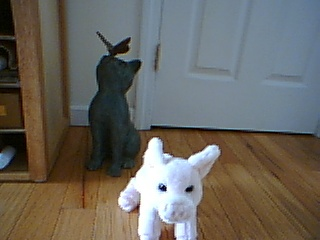piggy: (115, 135, 223, 240)
